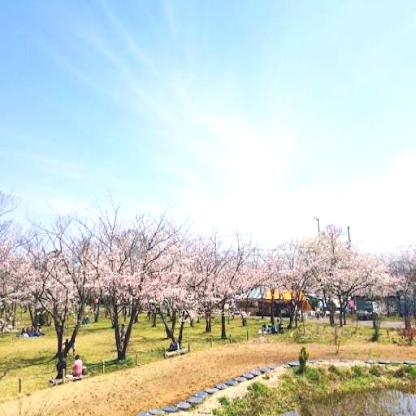Someiyoshino: (2, 232, 415, 311)
